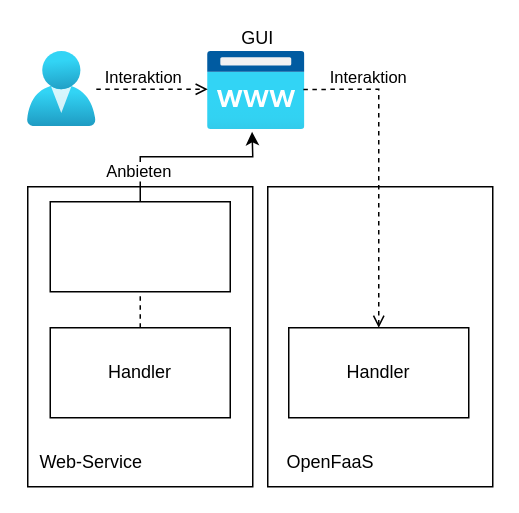
Image size: 519x513. Some labels were removed from this diagram. Here are the shapes that lost their labels. From the top down, the centre of each, then its label:
At pixel 61 88: "Benutzer".
At pixel 139 246: "Server".
